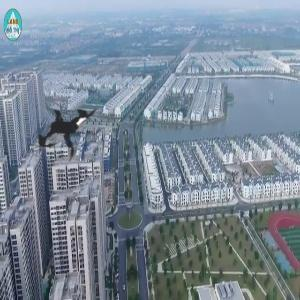drone: (11, 72, 129, 190)
